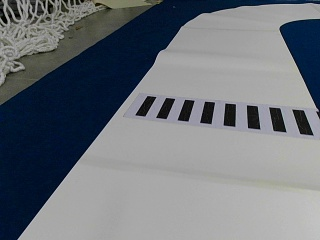crosswalk: (136, 96, 309, 135)
